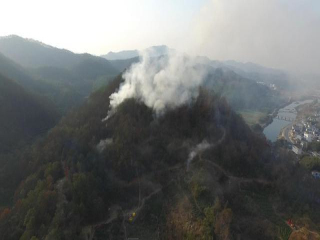smoke: (102, 10, 256, 122)
